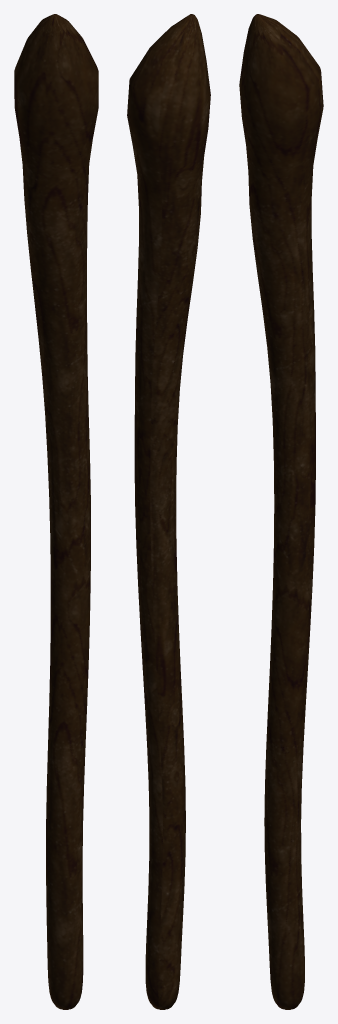
File: oak_staff.gltf
3 views of the same model, side by side, from view 1: azimuth 30°, elevation 25°; view 2: azimuth 150°, elevation 25°; view 3: azimuth 330°, elevation 25° (orthographic).
Parts seen in each view (by area): view 1: Cube; view 2: Cube; view 3: Cube.
Part boxes in pixels (x1,y1,x2,y2): Cube: (14, 14, 98, 1009); Cube: (127, 14, 210, 1009); Cube: (239, 14, 323, 1009).
Size of the model in its own units: 0.0485 by 0.6301 by 0.0478.
1 material, 1 textured.
